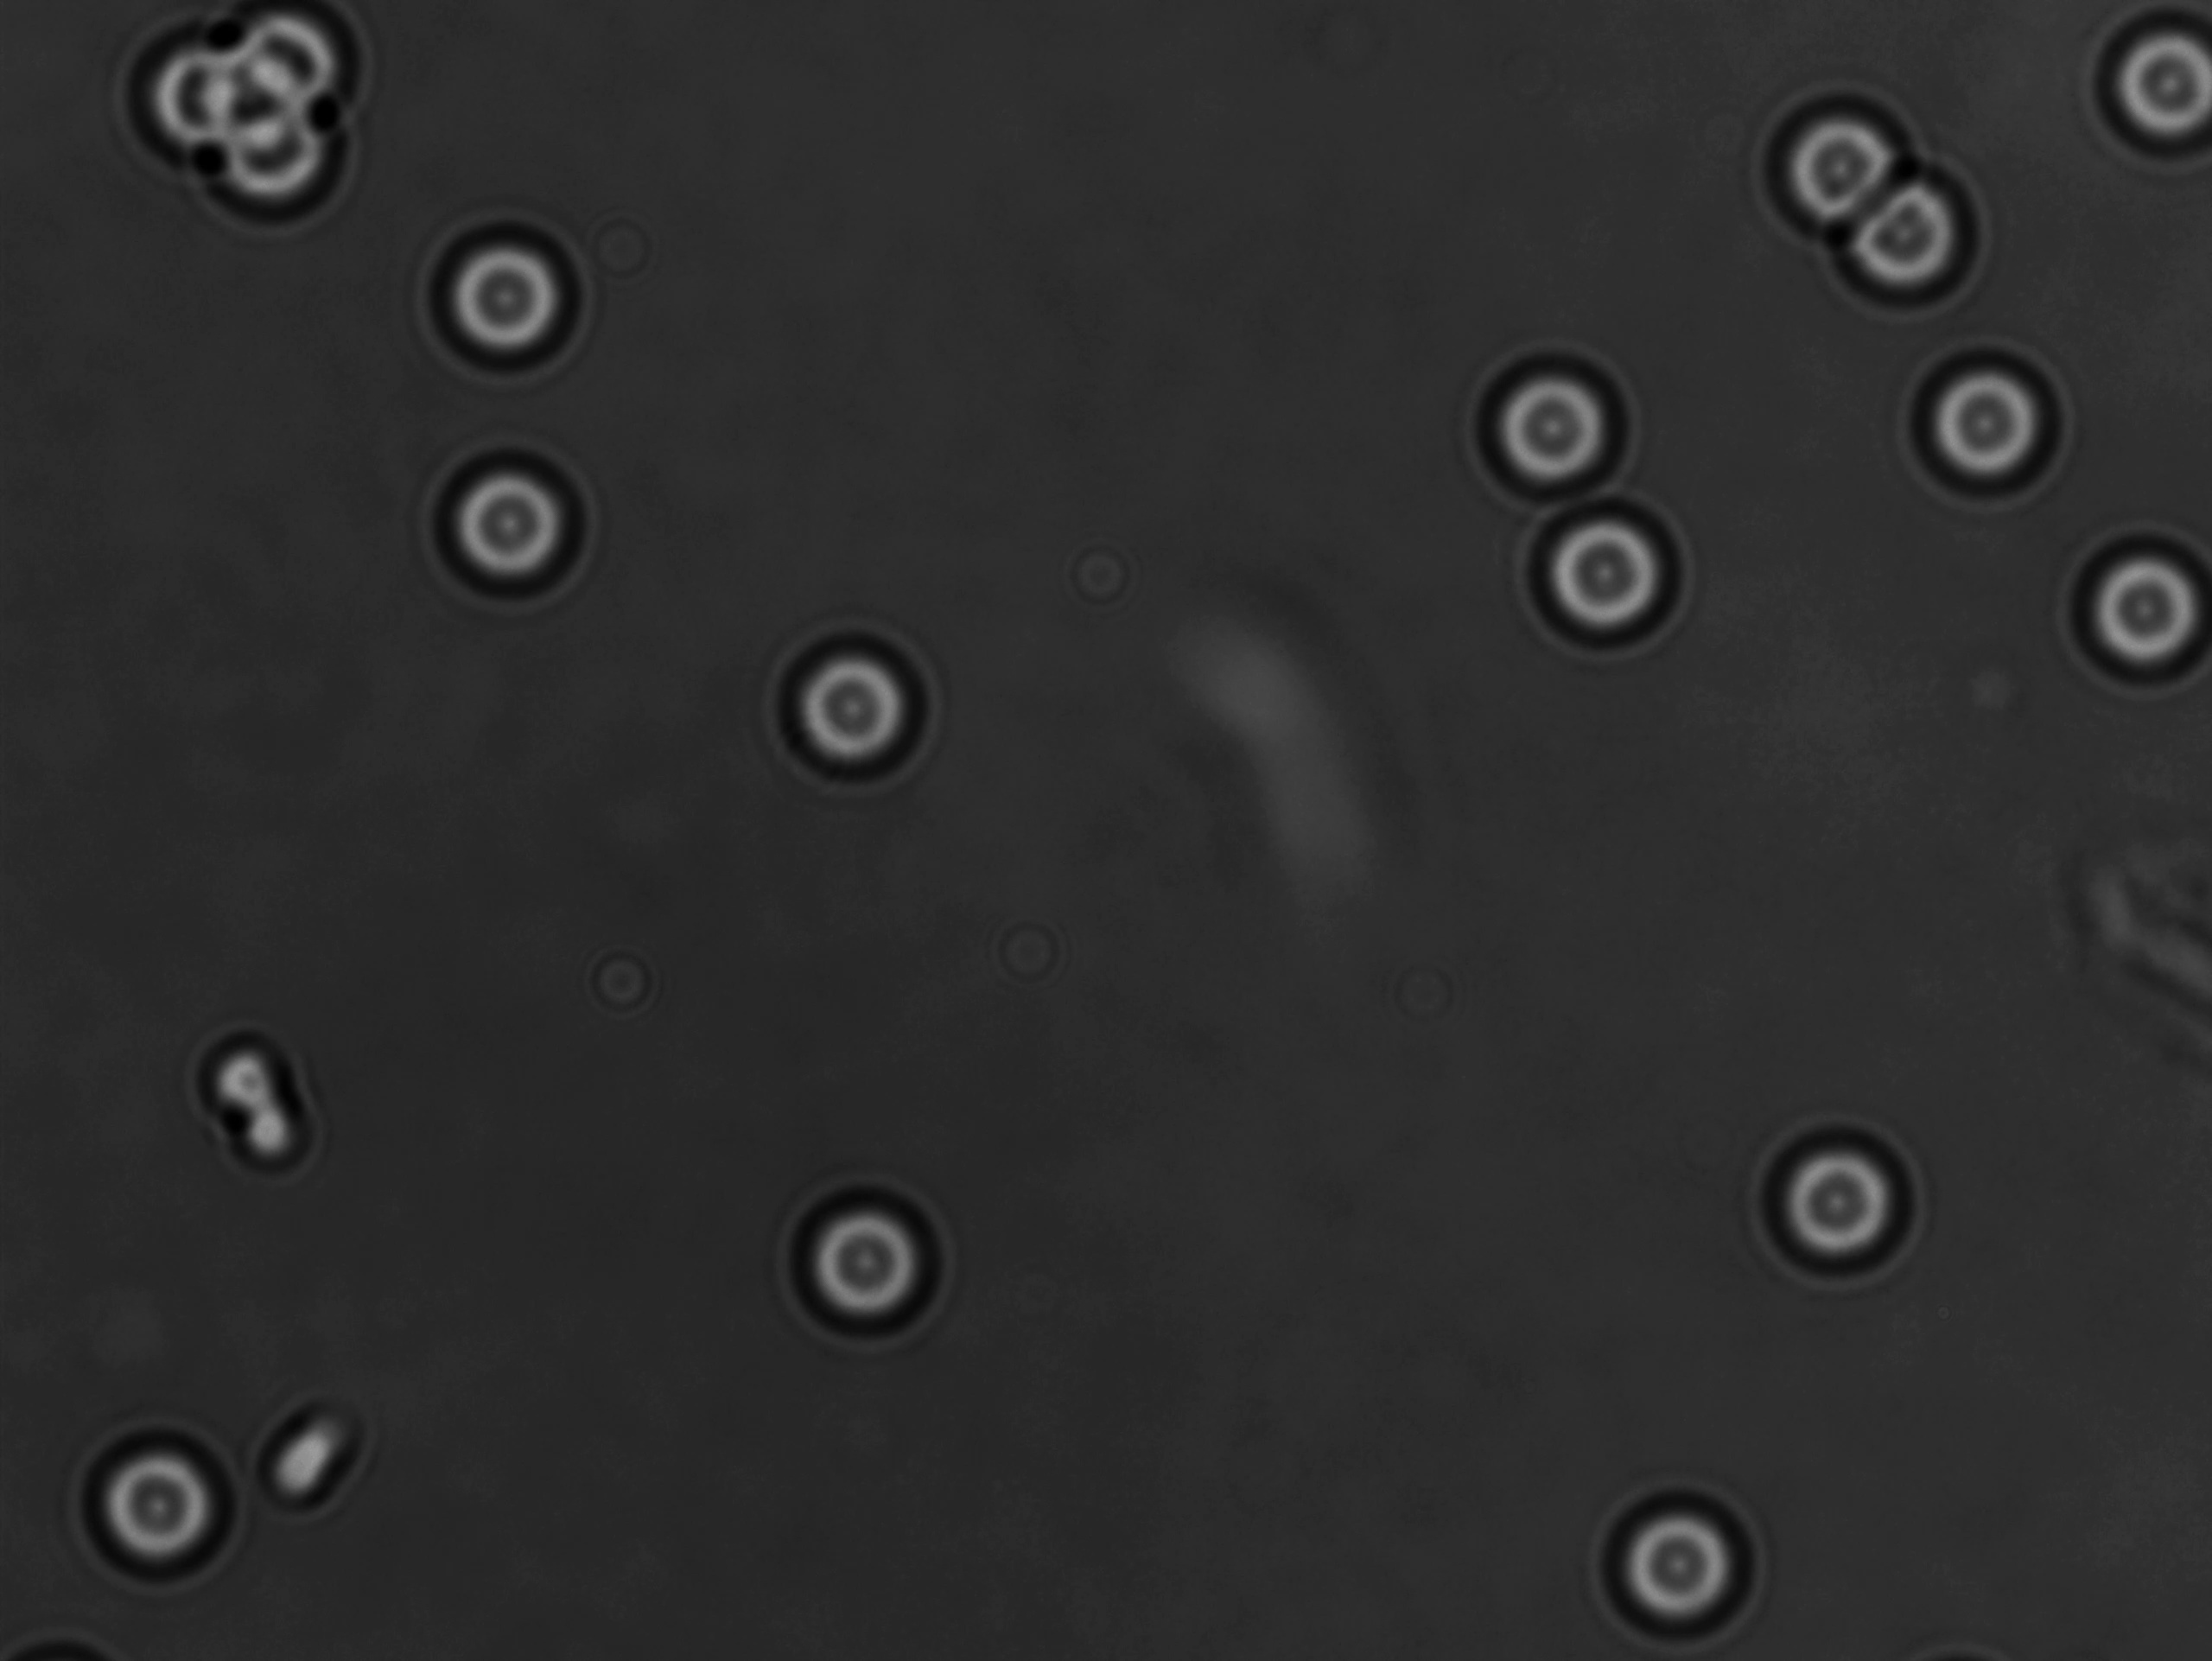depth:40: (775, 1179, 993, 1356), (1738, 1099, 1903, 1307), (1441, 330, 1633, 502), (1898, 330, 2074, 513), (761, 625, 940, 790), (1584, 1471, 1771, 1626), (1525, 483, 1685, 663), (426, 216, 611, 372), (1748, 87, 1919, 243), (2069, 525, 2212, 700), (426, 438, 579, 600), (1840, 154, 1999, 298)
